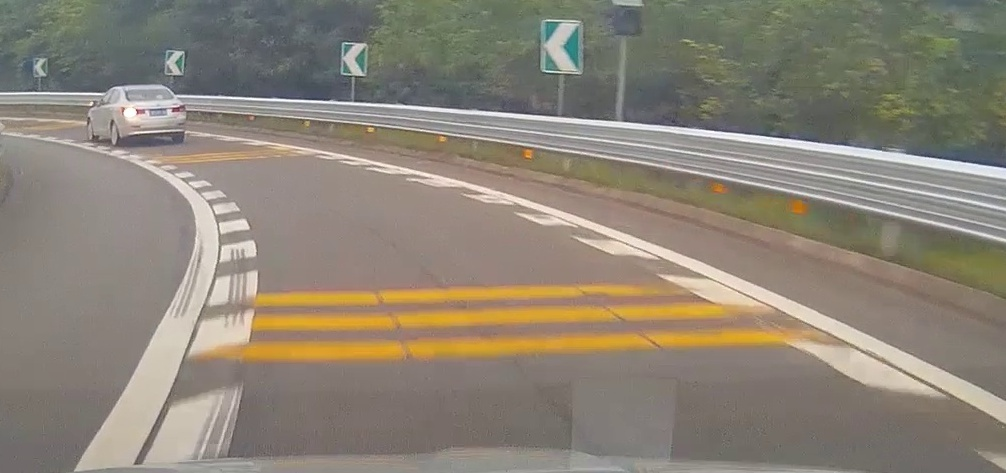L_light: (121, 107, 145, 115)
R_light: (171, 104, 186, 113)
T_light: (144, 88, 153, 90)
day-left: (118, 84, 187, 146)
